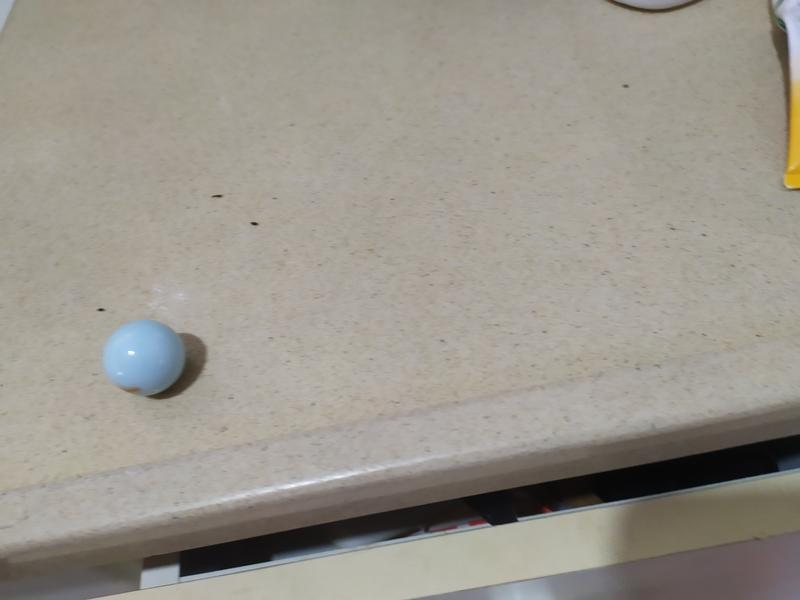Warning: (100, 317, 188, 399)
